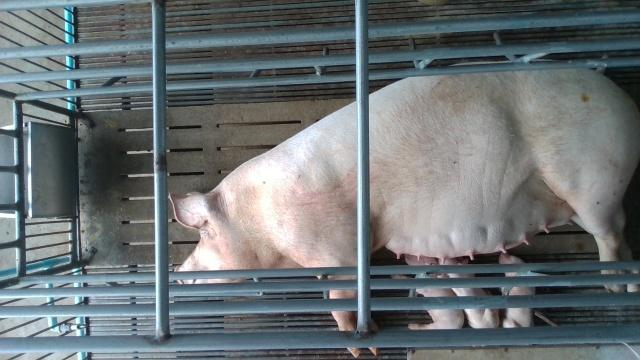piglet: (391, 255, 465, 331), (438, 257, 501, 330), (498, 250, 538, 330)
sow-sleep-lactate: (169, 68, 640, 358)
